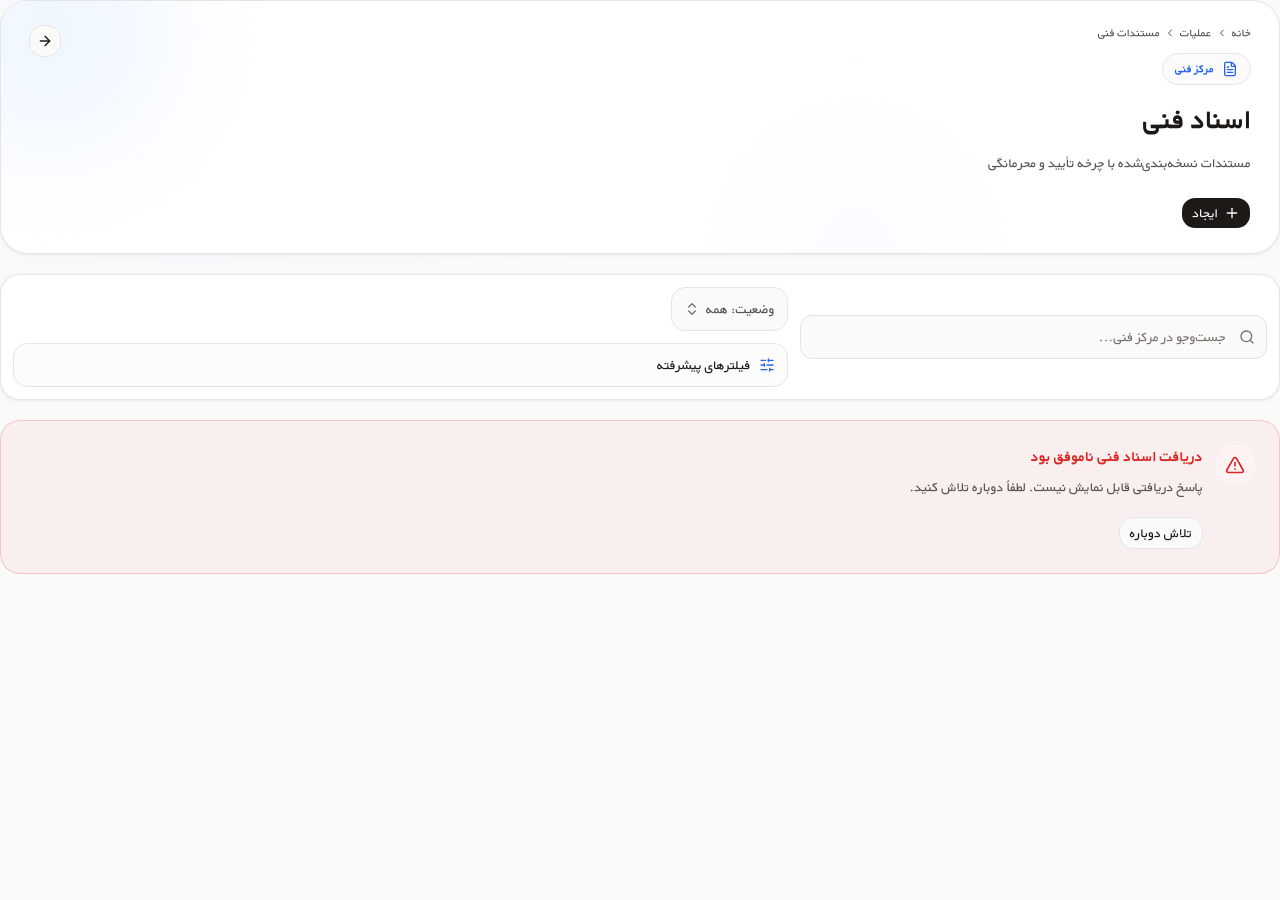
Scenario: Technical Center behavior › opens the shared create dialog instead of navigating to a create page
Click the button "ایجاد". click: (1216, 213)
box: 1181,197 -> 1251,229
(page scrolled)
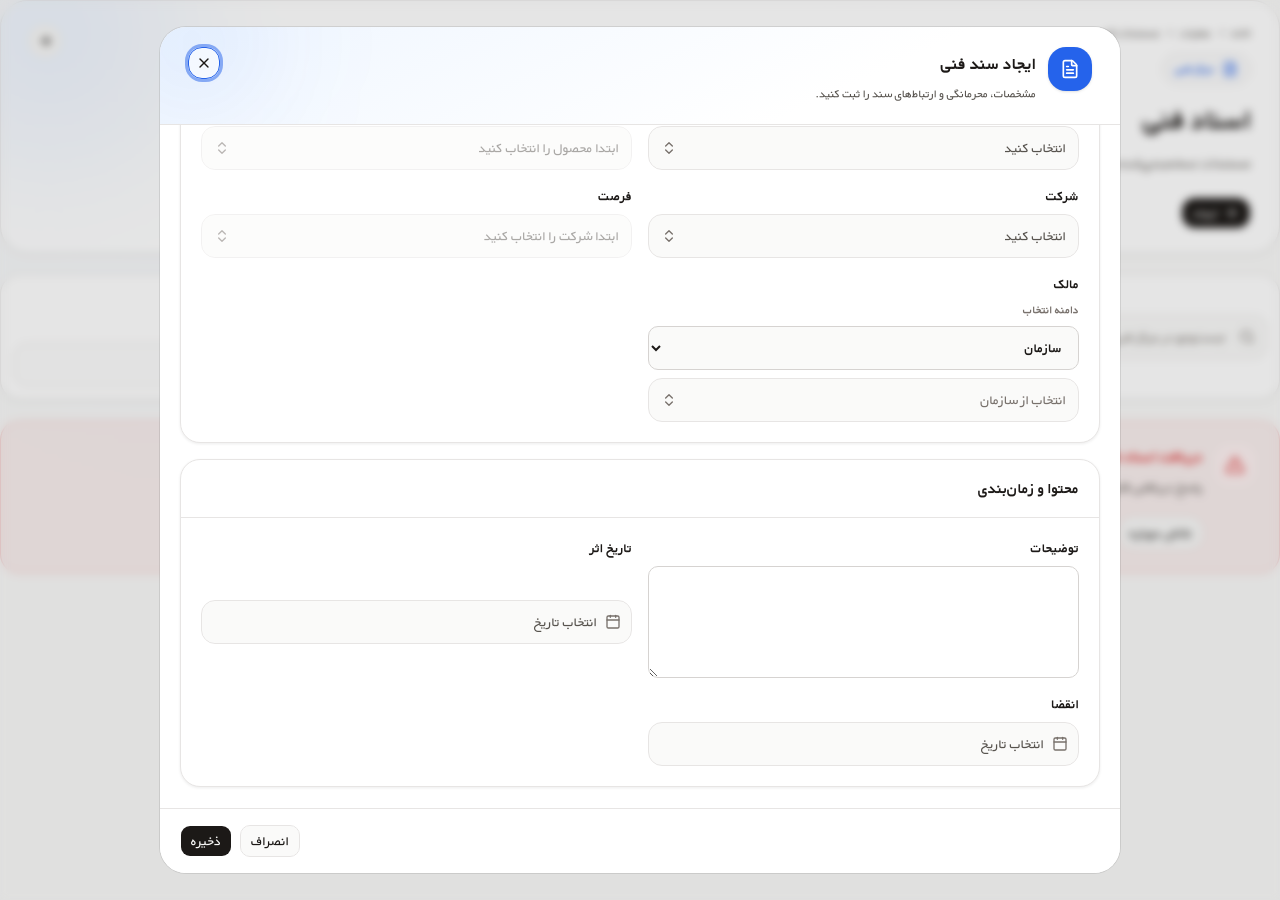
Expected: the heading "ایجاد سند فنی" is shown, 941,51 -> 1036,76
Expected: the button named "تاریخ اثر" reads "انتخاب تاریخ", 201,600 -> 632,644
